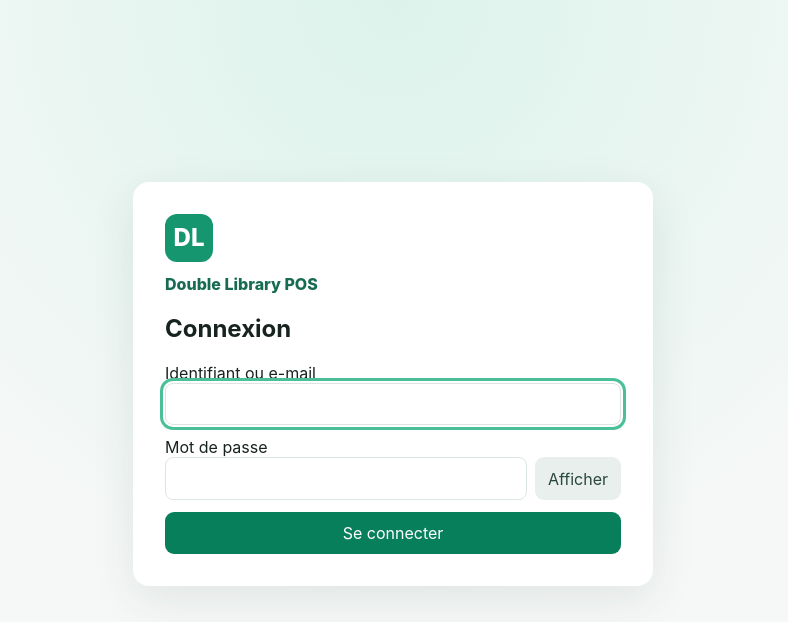
Test case: desktop login persistence › coalesces simultaneous submit events into one login request
The image size is (788, 622).
Type "gerante" into the field labelled "Identifiant ou e-mail" at (393, 404), box [165, 383, 621, 425]
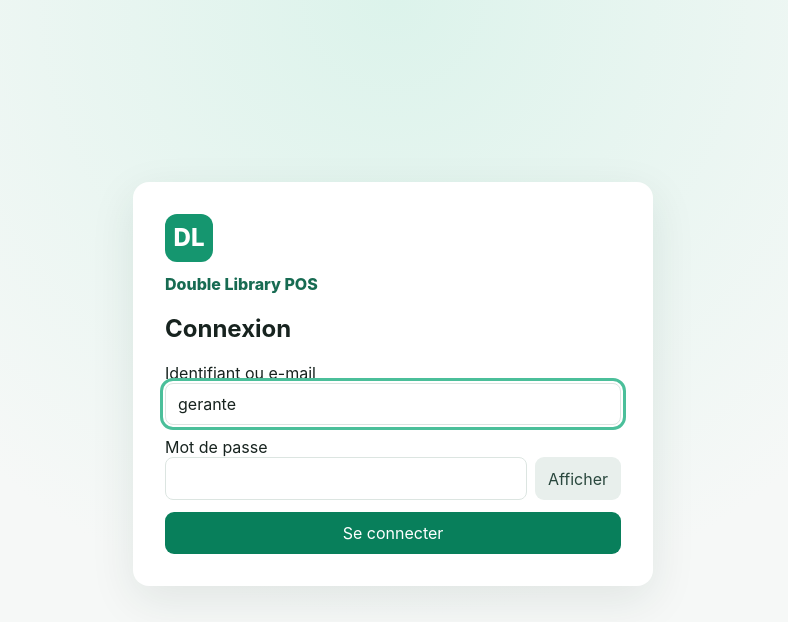
Type "secret" into the password field labelled "Mot de passe" at (346, 479), box [165, 457, 527, 500]
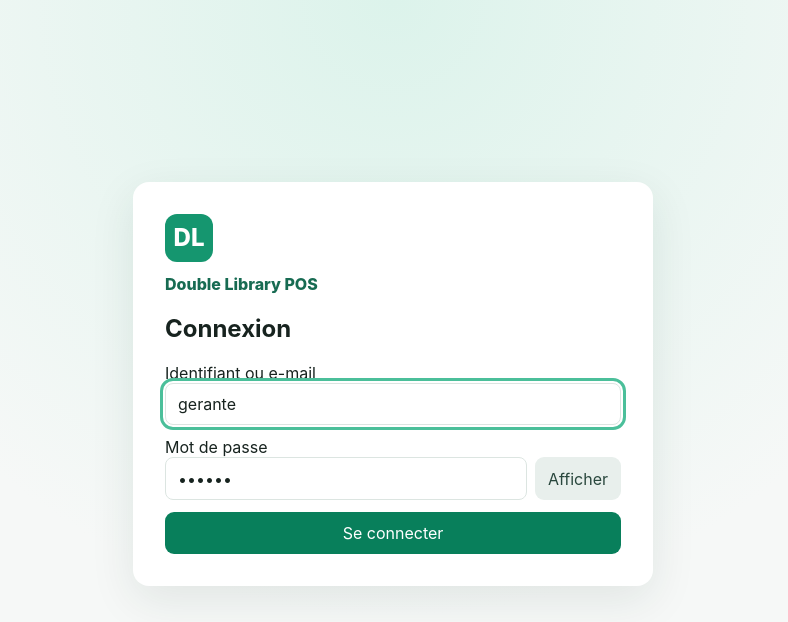
Submit the form "Se connecter", box [165, 363, 621, 554]
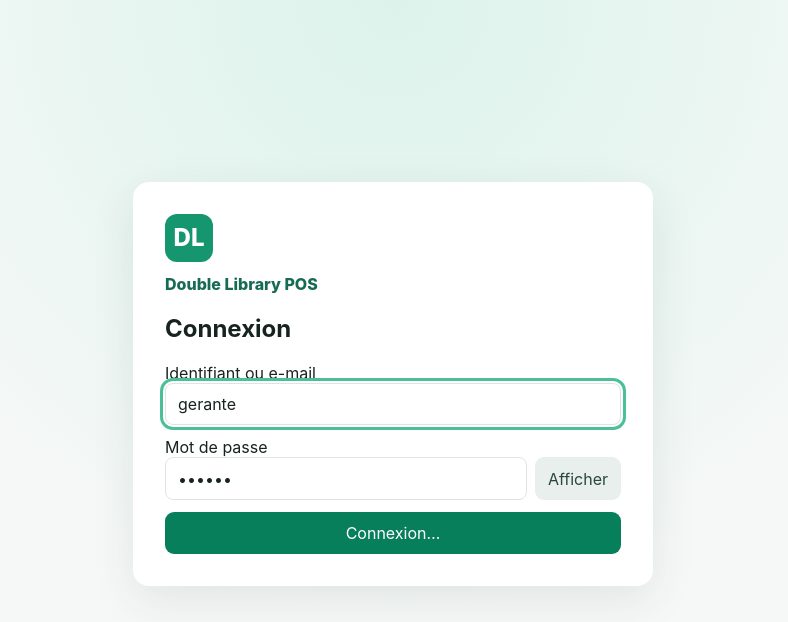
Submit the form named "Se connecter", box [165, 363, 621, 554]
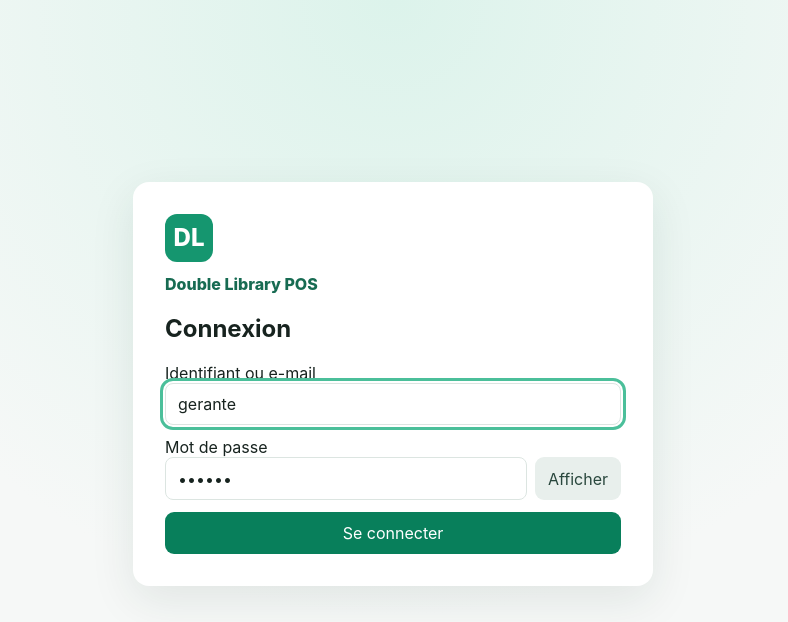
Result: the button "Se connecter" is shown at [165, 512, 621, 554]
